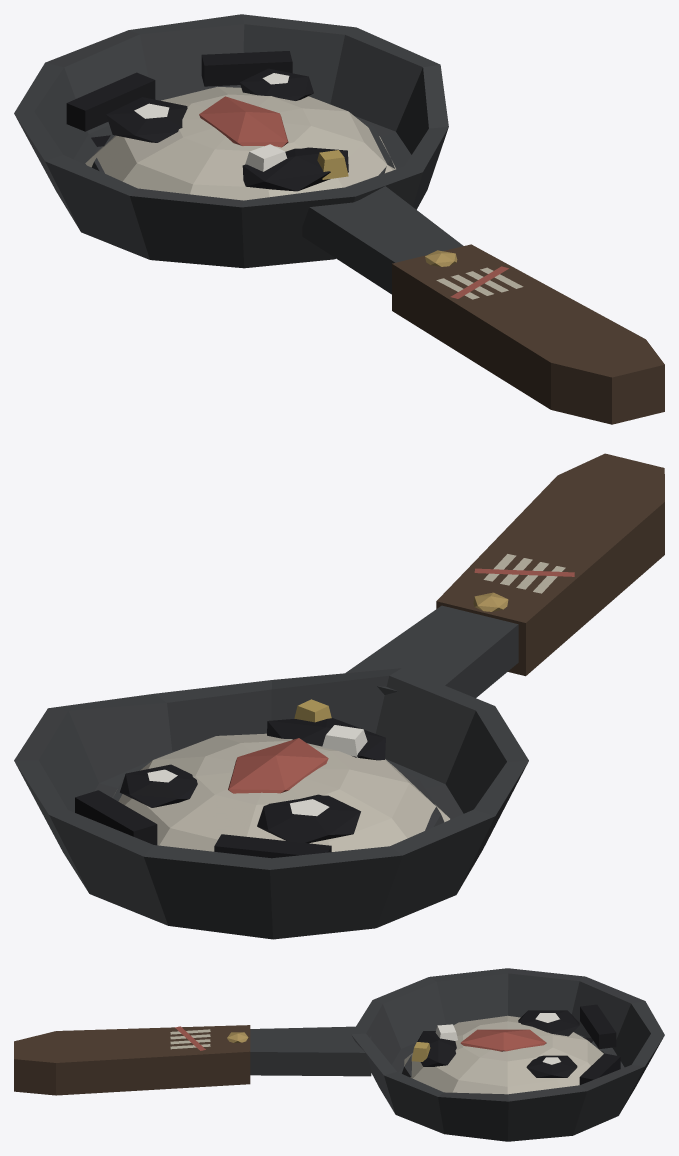
File: frying_pan.glb
3 views of the same model, one above another, from view 1: azimuth 30°, elevation 25°; view 2: azimuth 150°, elevation 25°; view 3: azimuth 270°, elevation 25° (orthographic). The views are drawn at different scales.
Visible parts, largest first — view 1: Prop; view 2: Prop; view 3: Prop.
Part boxes in pixels (x1,y1,x2,y2): Prop: [14, 14, 664, 424]; Prop: [14, 453, 664, 939]; Prop: [14, 968, 664, 1141].
Bounding box in the file's own units: 0.3 × 0.06 × 0.62.
